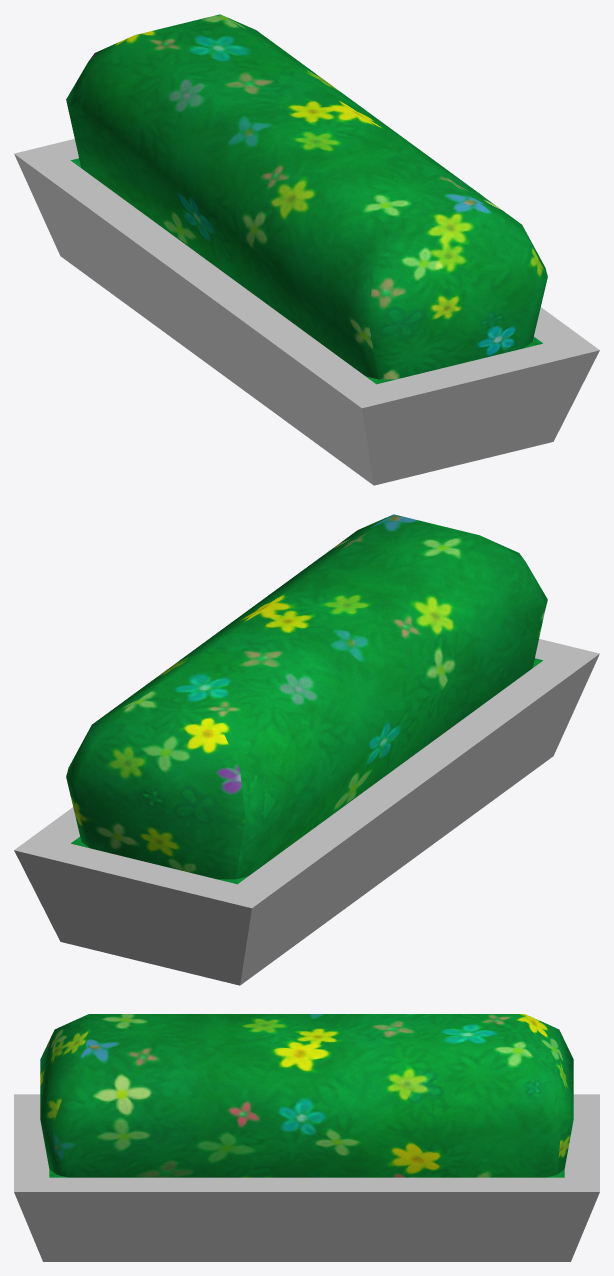
File: Plant02_c02.FBX
3 views of the same model, one above another, from view 1: azimuth 30°, elevation 25°; view 2: azimuth 150°, elevation 25°; view 3: azimuth 270°, elevation 25° (orthographic). The views are drawn at different scales.
Visible parts, largest first — view 1: Plant02_c02; view 2: Plant02_c02; view 3: Plant02_c02.
Part boxes in pixels (left/top/right/bottom): Plant02_c02: left=14, top=14, right=599, bottom=485; Plant02_c02: left=14, top=514, right=599, bottom=985; Plant02_c02: left=14, top=1014, right=599, bottom=1261.
Bounding box in the file's own units: 121 × 111 × 306.
